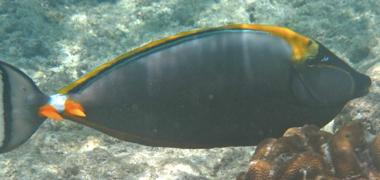Acanthuridae -Surgeonfishes-: (0, 22, 372, 156)
